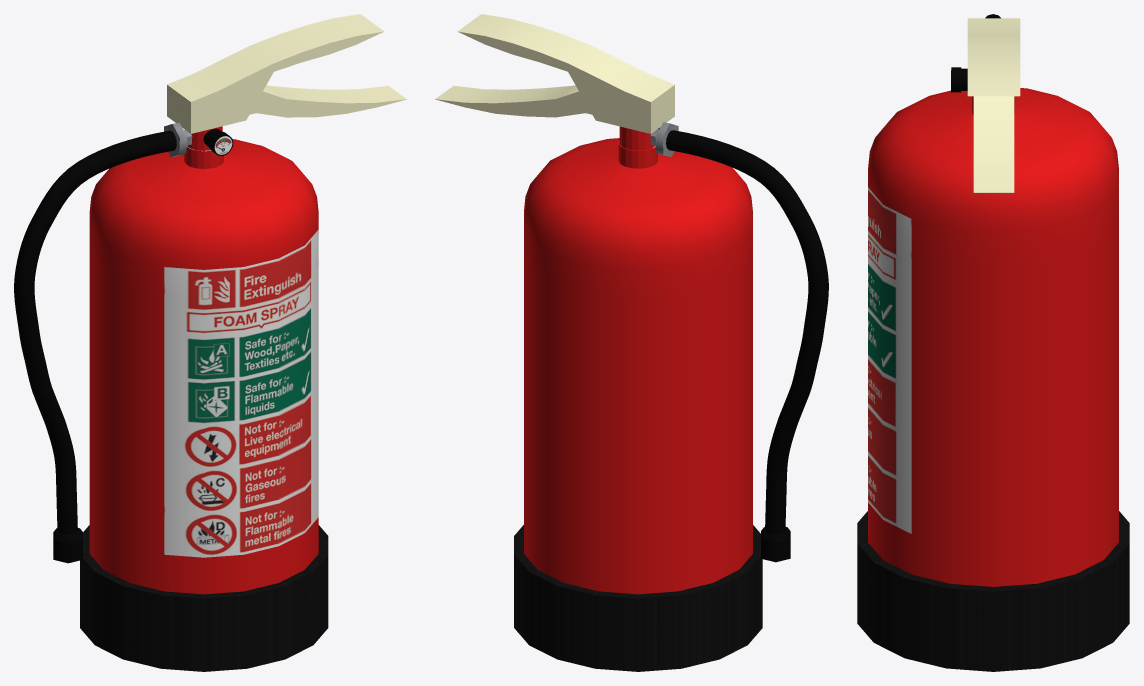
The model's file is fire_exting.glb.
3 renders of one model, left to right at view 1: azimuth 30°, elevation 25°; view 2: azimuth 150°, elevation 25°; view 3: azimuth 270°, elevation 25°, orthographic. The views are drawn at different scales.
Visible parts, largest first — view 1: Cylinder001_Extingusher base_0_5, Line001__0_9, Box001_cream_0_11, Box002_cream_0_13, Cylinder002_gauge_0_7; view 2: Cylinder001_Extingusher base_0_5, Line001__0_9, Box001_cream_0_11, Box002_cream_0_13; view 3: Cylinder001_Extingusher base_0_5, Box001_cream_0_11, Box002_cream_0_13, Cylinder002_gauge_0_7.
Part boxes in pixels (box(x1,y1,x2,y2)): Cylinder001_Extingusher base_0_5: box(80, 126, 328, 671); Line001__0_9: box(14, 130, 176, 563); Box001_cream_0_11: box(167, 14, 383, 133); Box002_cream_0_13: box(250, 85, 406, 117); Cylinder002_gauge_0_7: box(203, 128, 233, 155); Cylinder001_Extingusher base_0_5: box(514, 126, 762, 671); Line001__0_9: box(666, 130, 828, 562); Box001_cream_0_11: box(457, 14, 674, 133); Box002_cream_0_13: box(435, 85, 591, 117); Cylinder001_Extingusher base_0_5: box(857, 88, 1129, 671); Box001_cream_0_11: box(967, 18, 1020, 96); Box002_cream_0_13: box(973, 96, 1014, 192); Cylinder002_gauge_0_7: box(951, 67, 967, 92).
Bounding box in the file's own units: 56.53 × 78.61 × 31.79.
5 materials, 4 textured.
